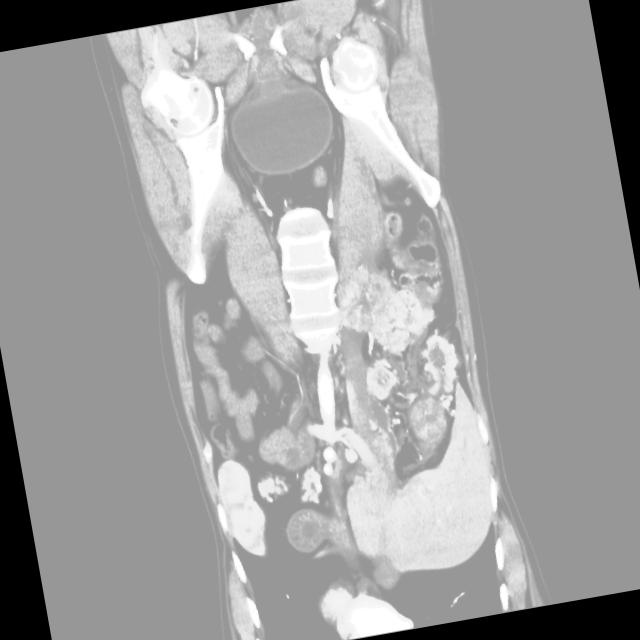TUMOR: (77, 92, 579, 459)
